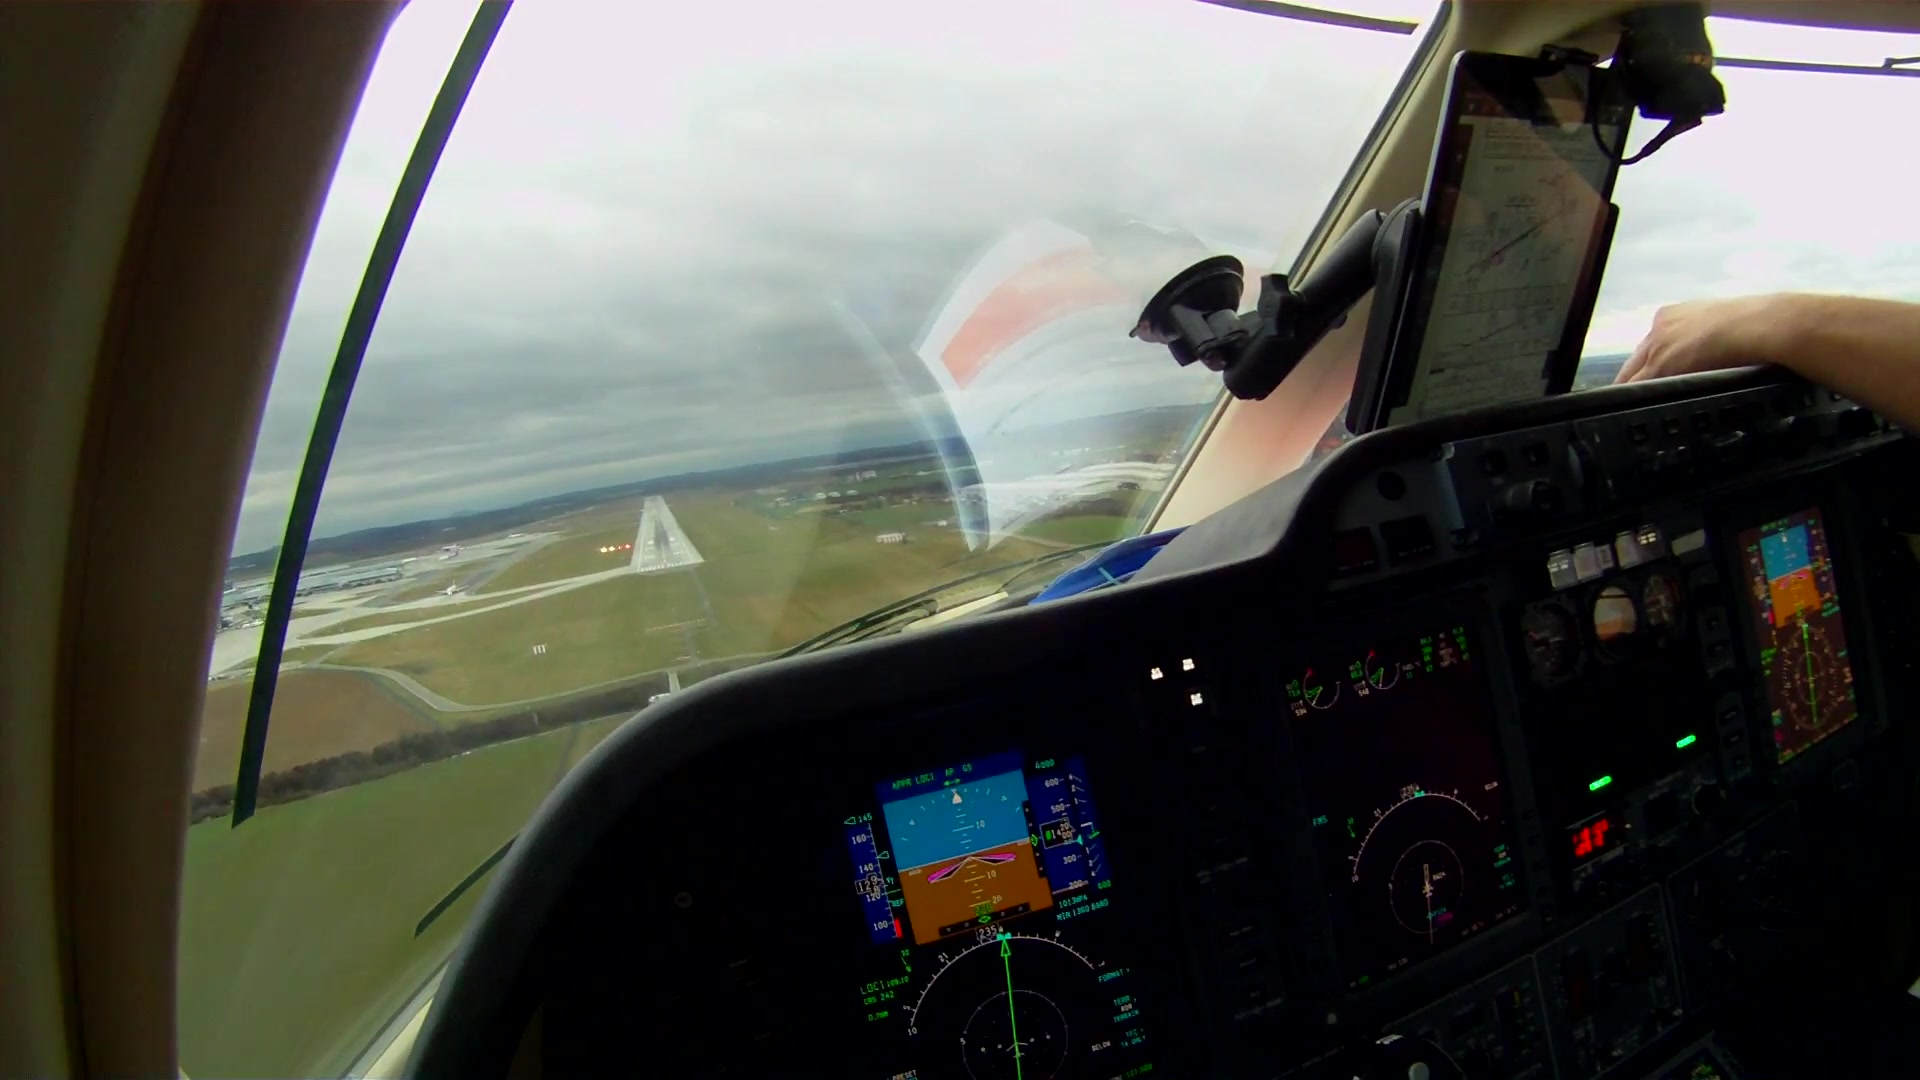entrance: (640, 562, 698, 571)
runway: (634, 495, 705, 575)
